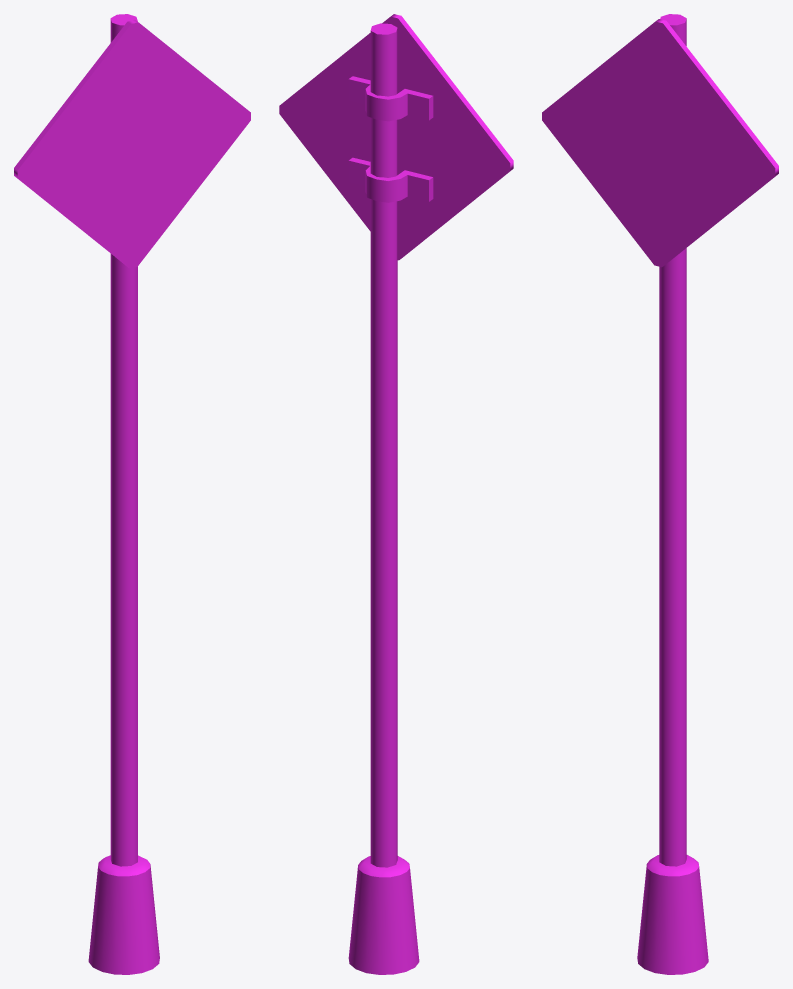
The model's file is SM_Sign_Circular.FBX.
3 renders of one model, left to right at view 1: azimuth 30°, elevation 25°; view 2: azimuth 150°, elevation 25°; view 3: azimuth 330°, elevation 25°, orthographic.
Visible parts, largest first — view 1: Sign_Circular; view 2: Sign_Circular; view 3: Sign_Circular.
Part boxes in pixels (x1,y1,x2,y2): Sign_Circular: (14,14,250,974); Sign_Circular: (279,14,513,974); Sign_Circular: (542,14,778,974).
Bounding box in the file's own units: 79.11 × 306 × 21.24.
